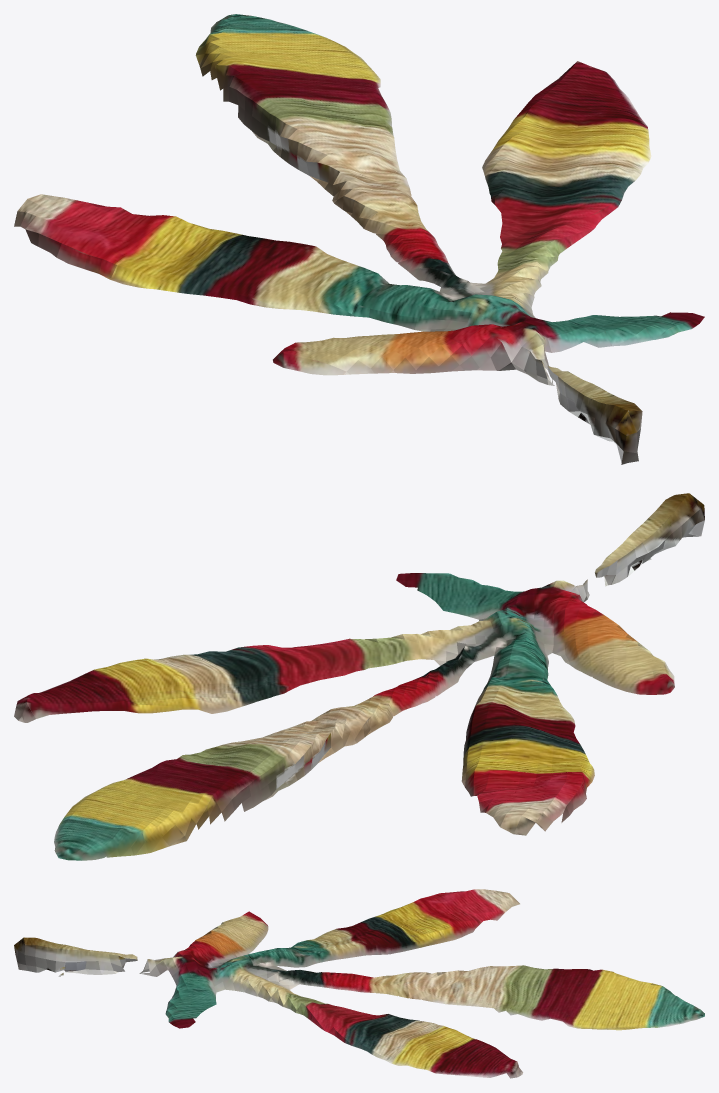
Rendered from Weed_cosi_Lowpoly.obj.
3 views of the same model, one above another, from view 1: azimuth 30°, elevation 25°; view 2: azimuth 150°, elevation 25°; view 3: azimuth 270°, elevation 25° (orthographic). The views are drawn at different scales.
Visible parts, largest first — view 1: Weed_cosi_Lowpoly_model.074; view 2: Weed_cosi_Lowpoly_model.074; view 3: Weed_cosi_Lowpoly_model.074.
Part boxes in pixels (x1,y1,x2,y2): Weed_cosi_Lowpoly_model.074: (14,14,704,464); Weed_cosi_Lowpoly_model.074: (14,493,704,860); Weed_cosi_Lowpoly_model.074: (14,889,704,1078).
Bounding box in the file's own units: 2.11 × 0.166 × 3.42.
1 material, 1 textured.
